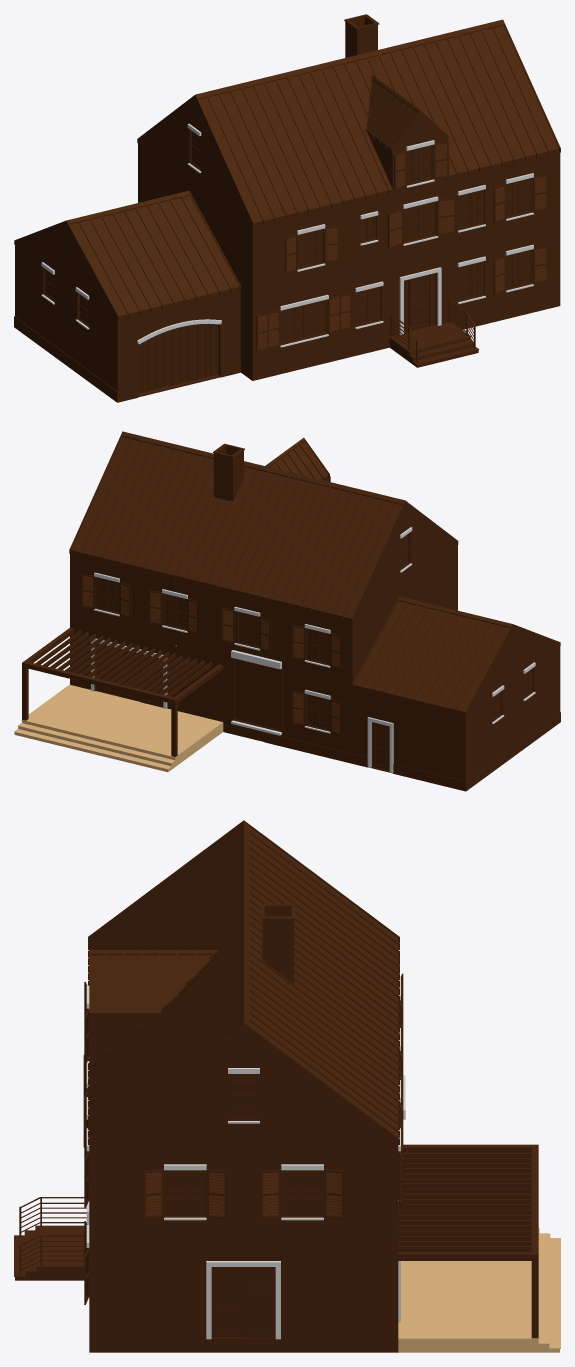
File: modernHouse 1.fbx
3 renders of one model, top to bottom at view 1: azimuth 30°, elevation 25°; view 2: azimuth 150°, elevation 25°; view 3: azimuth 270°, elevation 25°, orthographic. The views are drawn at different scales.
Parts seen in each view (by area): view 1: MBH1OBJ_01, MBH1OBJ_05, MBH1OBJ_02, MBH1OBJ_06, MBH1OBJ_03, MBH1OBJ_04; view 2: MBH1OBJ_01, MBH1OBJ_05, MBH1OBJ_04, MBH1OBJ_02, MBH1OBJ_03, MBH1OBJ_06; view 3: MBH1OBJ_05, MBH1OBJ_01, MBH1OBJ_04, MBH1OBJ_02, MBH1OBJ_06, MBH1OBJ_03.
Part boxes in pixels (x1,y1,x2,y2): MBH1OBJ_01: (14,19,560,320); MBH1OBJ_05: (15,14,560,391); MBH1OBJ_02: (41,123,548,351); MBH1OBJ_06: (137,267,441,393); MBH1OBJ_03: (14,295,560,402); MBH1OBJ_04: (389,300,479,367); MBH1OBJ_01: (69,431,560,715); MBH1OBJ_05: (70,443,560,781); MBH1OBJ_04: (14,628,223,772); MBH1OBJ_02: (81,476,535,735); MBH1OBJ_03: (96,690,560,791); MBH1OBJ_06: (91,638,393,772); MBH1OBJ_05: (89,903,398,1338); MBH1OBJ_01: (88,820,399,1144); MBH1OBJ_04: (14,1144,560,1352); MBH1OBJ_02: (83,973,405,1304); MBH1OBJ_06: (86,1216,400,1339); MBH1OBJ_03: (89,1337,398,1352).
Bounding box in the file's own units: 76464 × 44371 × 61605.
